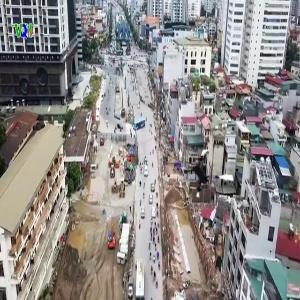drone: (181, 148, 237, 204)
